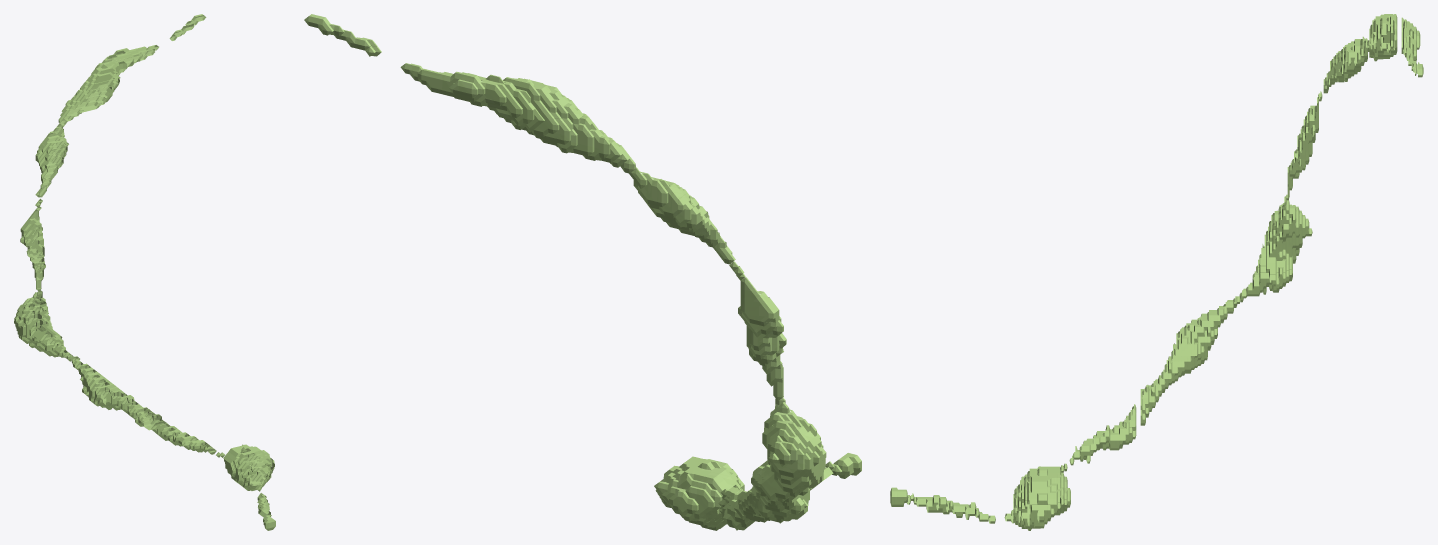
File: SVV_PVPL.gltf
3 views of the same model, side by side, from view 1: azimuth 30°, elevation 25°; view 2: azimuth 150°, elevation 25°; view 3: azimuth 270°, elevation 25° (orthographic). The views are drawn at different scales.
Parts seen in each view (by area): view 1: PVPL; view 2: PVPL; view 3: PVPL.
Boxes of the visible parts, left/top/right/bottom form: PVPL: left=14, top=14, right=275, bottom=530; PVPL: left=304, top=14, right=861, bottom=530; PVPL: left=890, top=14, right=1423, bottom=530.
Size of the model in its own units: 46616 by 67105 by 62745.
